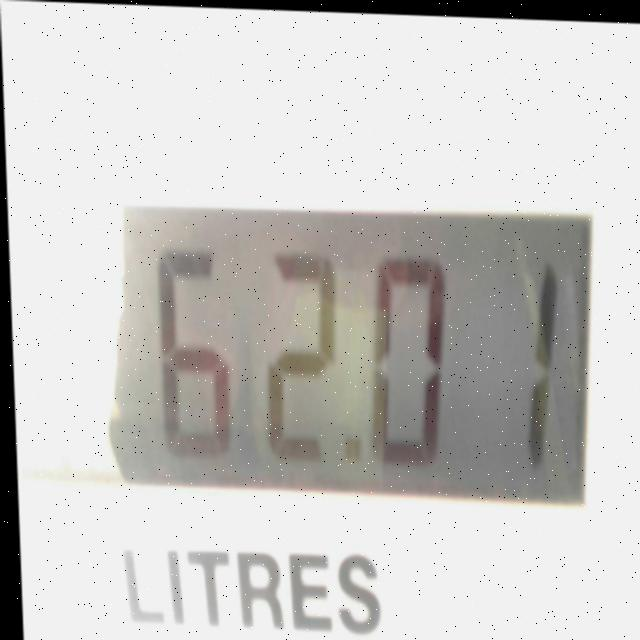.: (328, 411, 366, 478)
0: (350, 234, 462, 470)
1: (484, 229, 564, 487)
2: (251, 229, 347, 486)
6: (140, 219, 251, 476)
